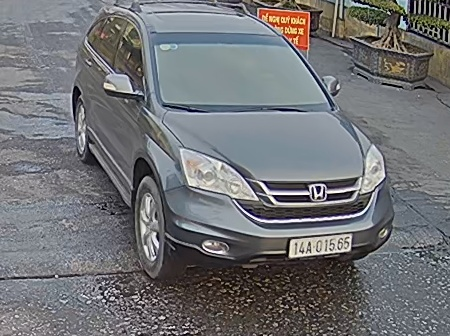vehicle plate: (287, 233, 358, 259)
